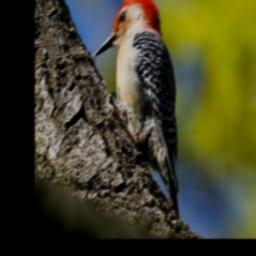Woodpecker: (90, 0, 179, 214)
